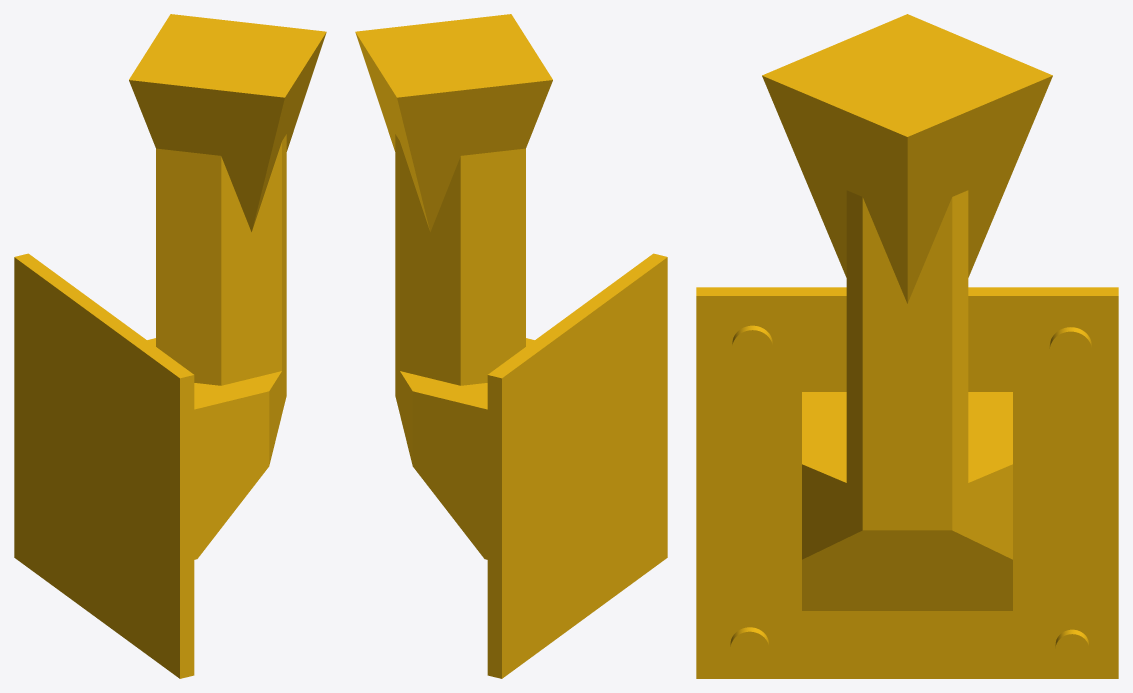
Rendered from Fackelhalter.glb.
3 views of the same model, side by side, from view 1: azimuth 30°, elevation 25°; view 2: azimuth 150°, elevation 25°; view 3: azimuth 270°, elevation 25° (orthographic). The views are drawn at different scales.
Parts seen in each view (by area): view 1: Fackelhalter; view 2: Fackelhalter; view 3: Fackelhalter.
Part boxes in pixels (x1=…): Fackelhalter: x1=14, y1=14, x2=326, y2=678; Fackelhalter: x1=355, y1=14, x2=667, y2=678; Fackelhalter: x1=696, y1=14, x2=1118, y2=678.
Bounding box in the file's own units: 0.1599 × 0.353 × 0.2.
